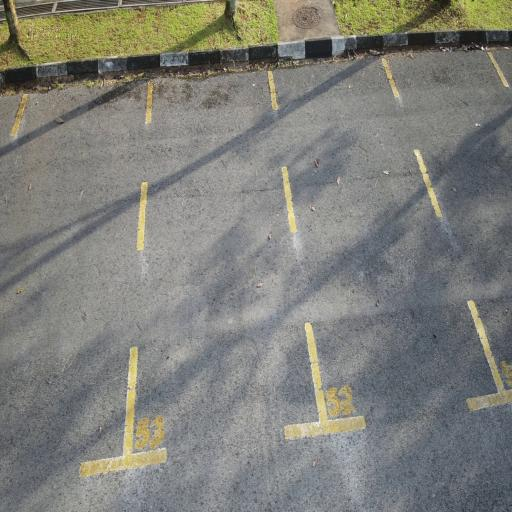Empty: (120, 39, 331, 476)
